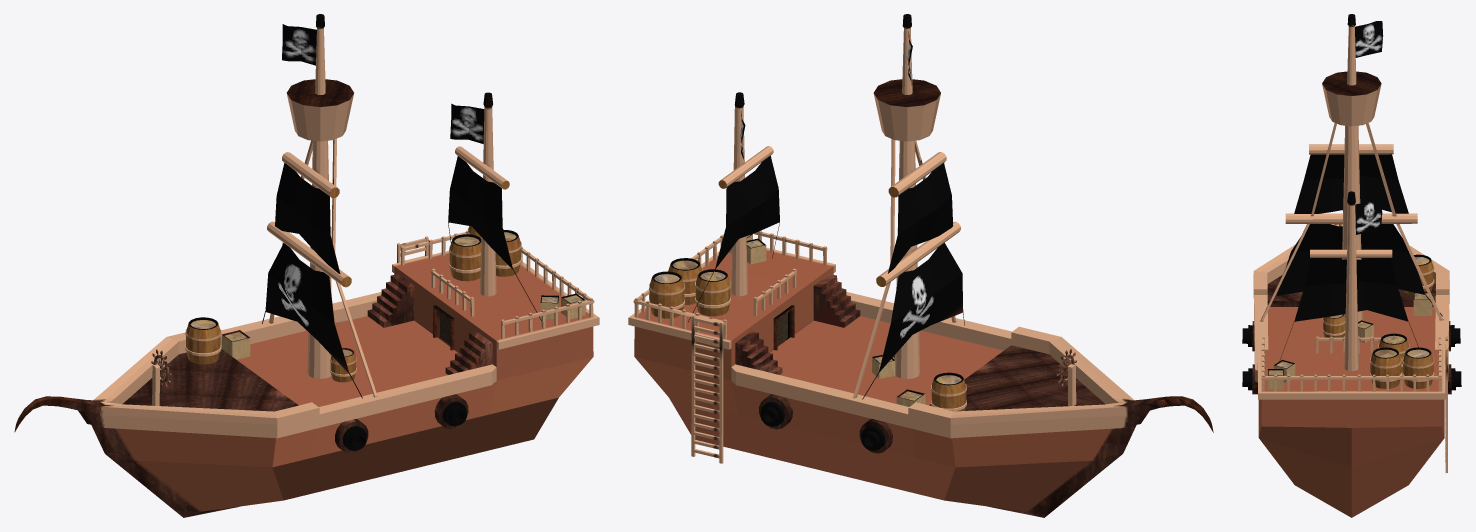
Rendered from PirateShip.fbx.
The picture shows the model from 3 angles, left to right: view 1: azimuth 30°, elevation 25°; view 2: azimuth 150°, elevation 25°; view 3: azimuth 270°, elevation 25°; orthographic projection. The views are drawn at different scales.
Visible parts, largest first — view 1: Cube, Cube.003, Cube.002, Cube.001; view 2: Cube, Cube.003, Cube.002, Cube.001, Cube.009; view 3: Cube, Cube.001, Cube.002, Cube.003, Cube.007.
Part boxes in pixels (x1,y1,x2,y2): Cube: [14, 14, 599, 517]; Cube.003: [265, 243, 349, 374]; Cube.002: [275, 163, 339, 273]; Cube.001: [448, 156, 512, 269]; Cube: [628, 14, 1213, 517]; Cube.003: [879, 243, 963, 372]; Cube.002: [888, 163, 953, 273]; Cube.001: [715, 156, 779, 268]; Cube.009: [719, 322, 723, 463]; Cube: [1242, 14, 1461, 517]; Cube.001: [1294, 258, 1408, 321]; Cube.002: [1294, 154, 1408, 213]; Cube.003: [1277, 224, 1424, 295]; Cube.007: [1445, 348, 1447, 472].
Bounding box in the file's own units: 969 × 805 × 384.
